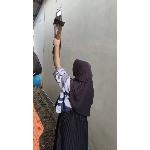Kapak: (48, 15, 68, 55)
